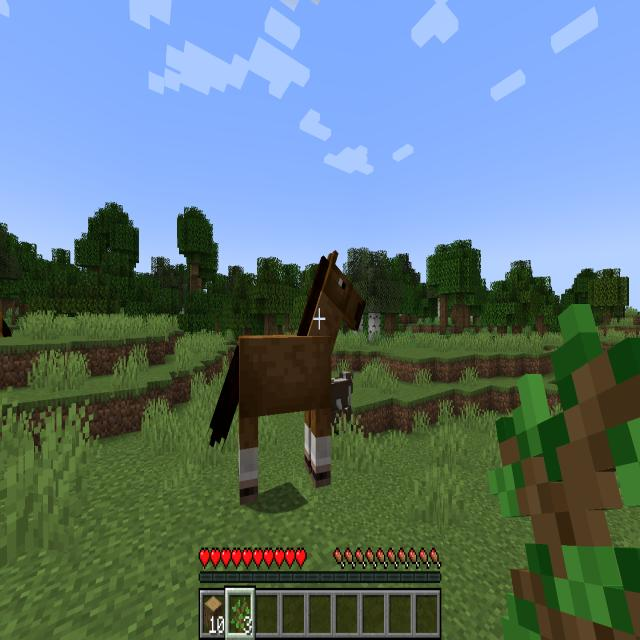cow: (321, 360, 366, 440)
